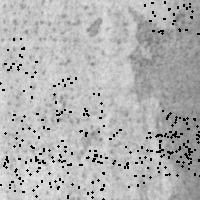pitted_surface: (1, 1, 127, 200), (128, 1, 200, 200), (103, 129, 161, 186), (137, 118, 197, 173), (13, 144, 71, 200), (47, 110, 100, 164), (50, 152, 105, 200), (159, 116, 200, 175), (53, 77, 103, 125), (0, 112, 43, 166), (162, 110, 200, 164), (0, 38, 35, 96), (144, 0, 200, 33), (0, 156, 38, 200)
